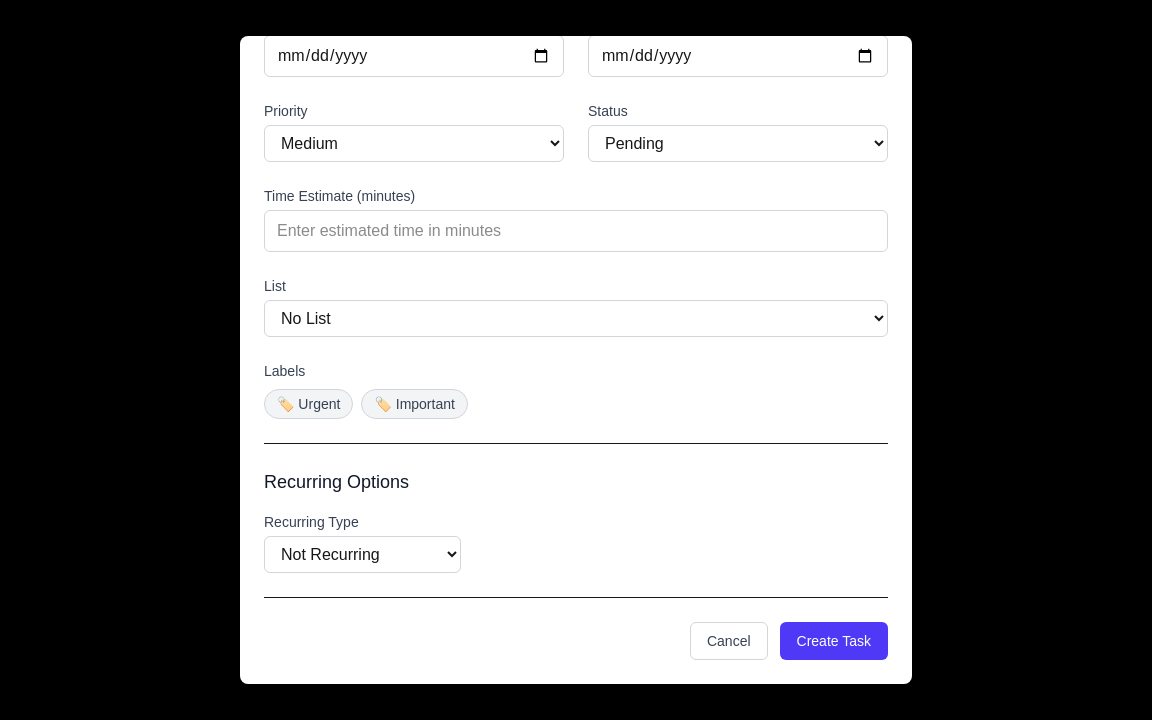
Test: TaskForm › shows recurring options when recurring type is selected
(page scrolled)
Select "Daily" in the dropdown labelled "Recurring Type": (363, 554) top-left (264, 536), bottom-right (461, 573)
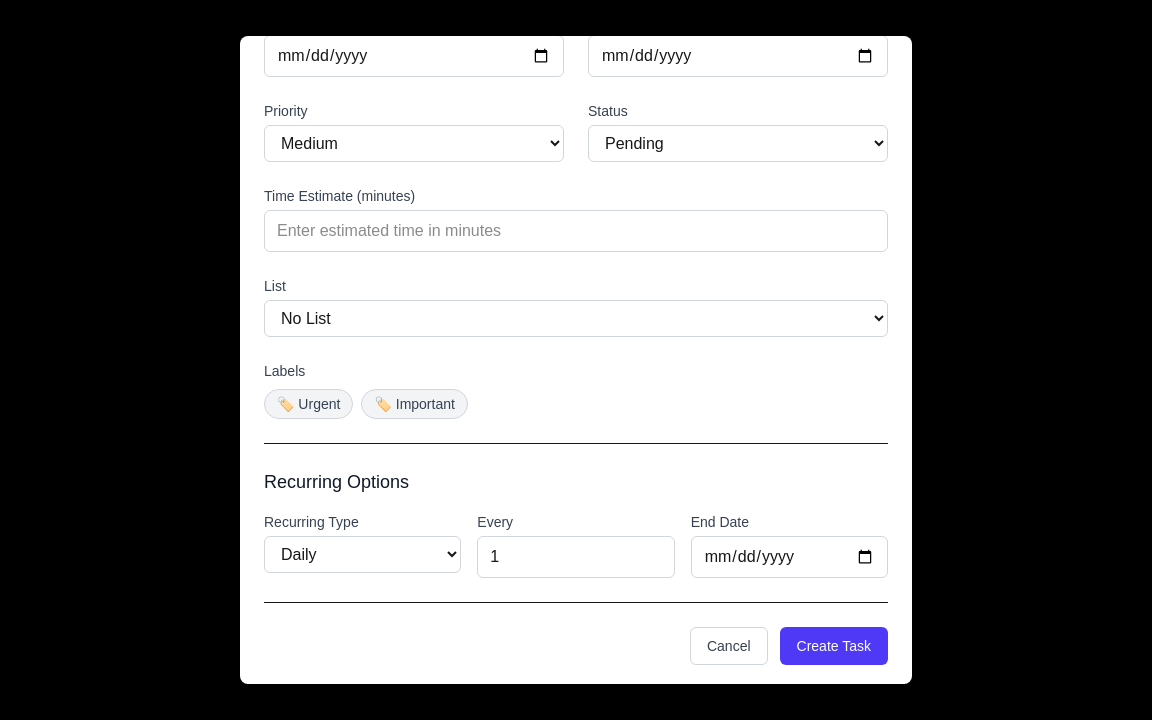
expect the number field labelled "Every" is shown: met, box top-left (477, 536), bottom-right (675, 578)
expect the date field labelled "End Date" is shown: met, box top-left (691, 536), bottom-right (888, 578)
